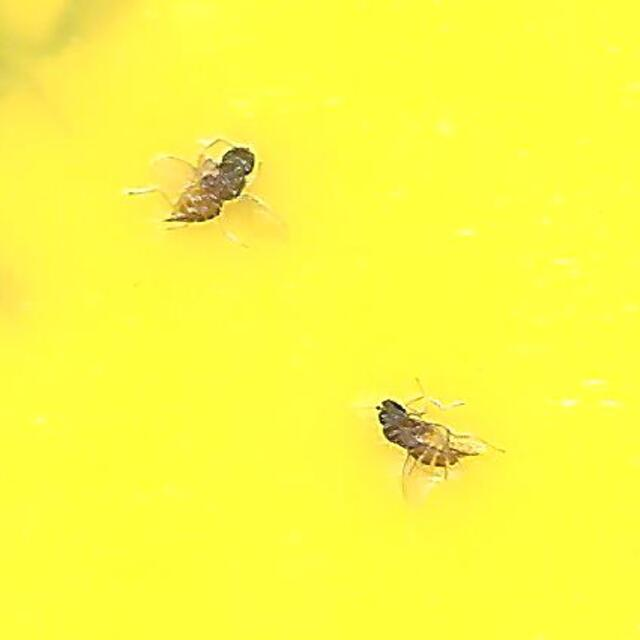Brachycera: (370, 385, 490, 506), (150, 134, 281, 239)
